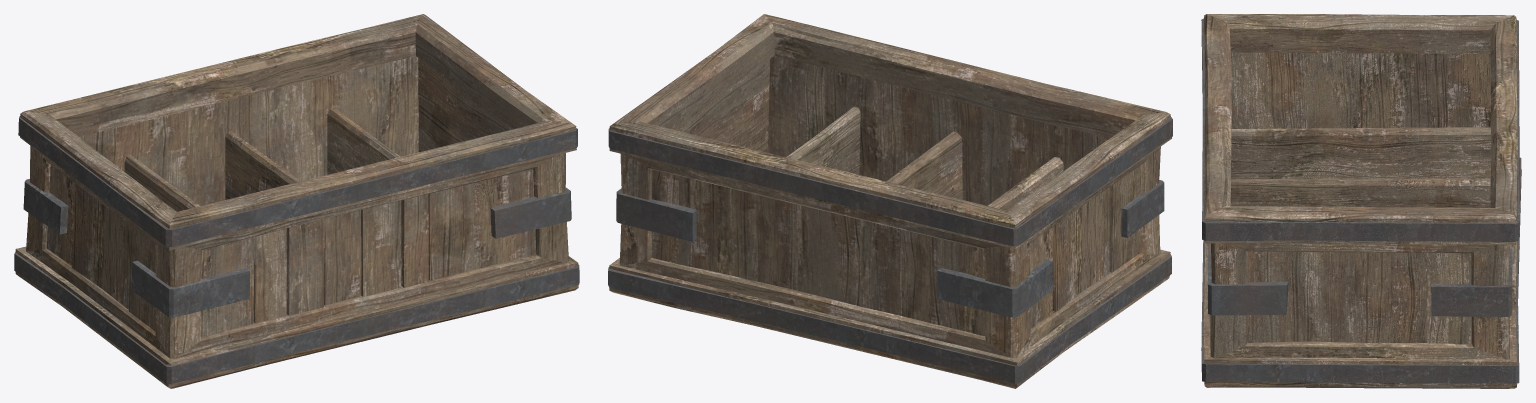
File: SM_Crate_A_01.fbx
The picture shows the model from 3 angles, left to right: view 1: azimuth 30°, elevation 25°; view 2: azimuth 150°, elevation 25°; view 3: azimuth 270°, elevation 25°; orthographic projection. The views are drawn at different scales.
Visible parts, largest first — view 1: SM_Crate_A_01_LOD0; view 2: SM_Crate_A_01_LOD0; view 3: SM_Crate_A_01_LOD0.
Part boxes in pixels (x1=…): SM_Crate_A_01_LOD0: x1=14, y1=14, x2=579, y2=388; SM_Crate_A_01_LOD0: x1=608, y1=14, x2=1172, y2=388; SM_Crate_A_01_LOD0: x1=1201, y1=14, x2=1521, y2=388.
Size of the model in its own units: 90.35 by 59.02 by 35.85.
